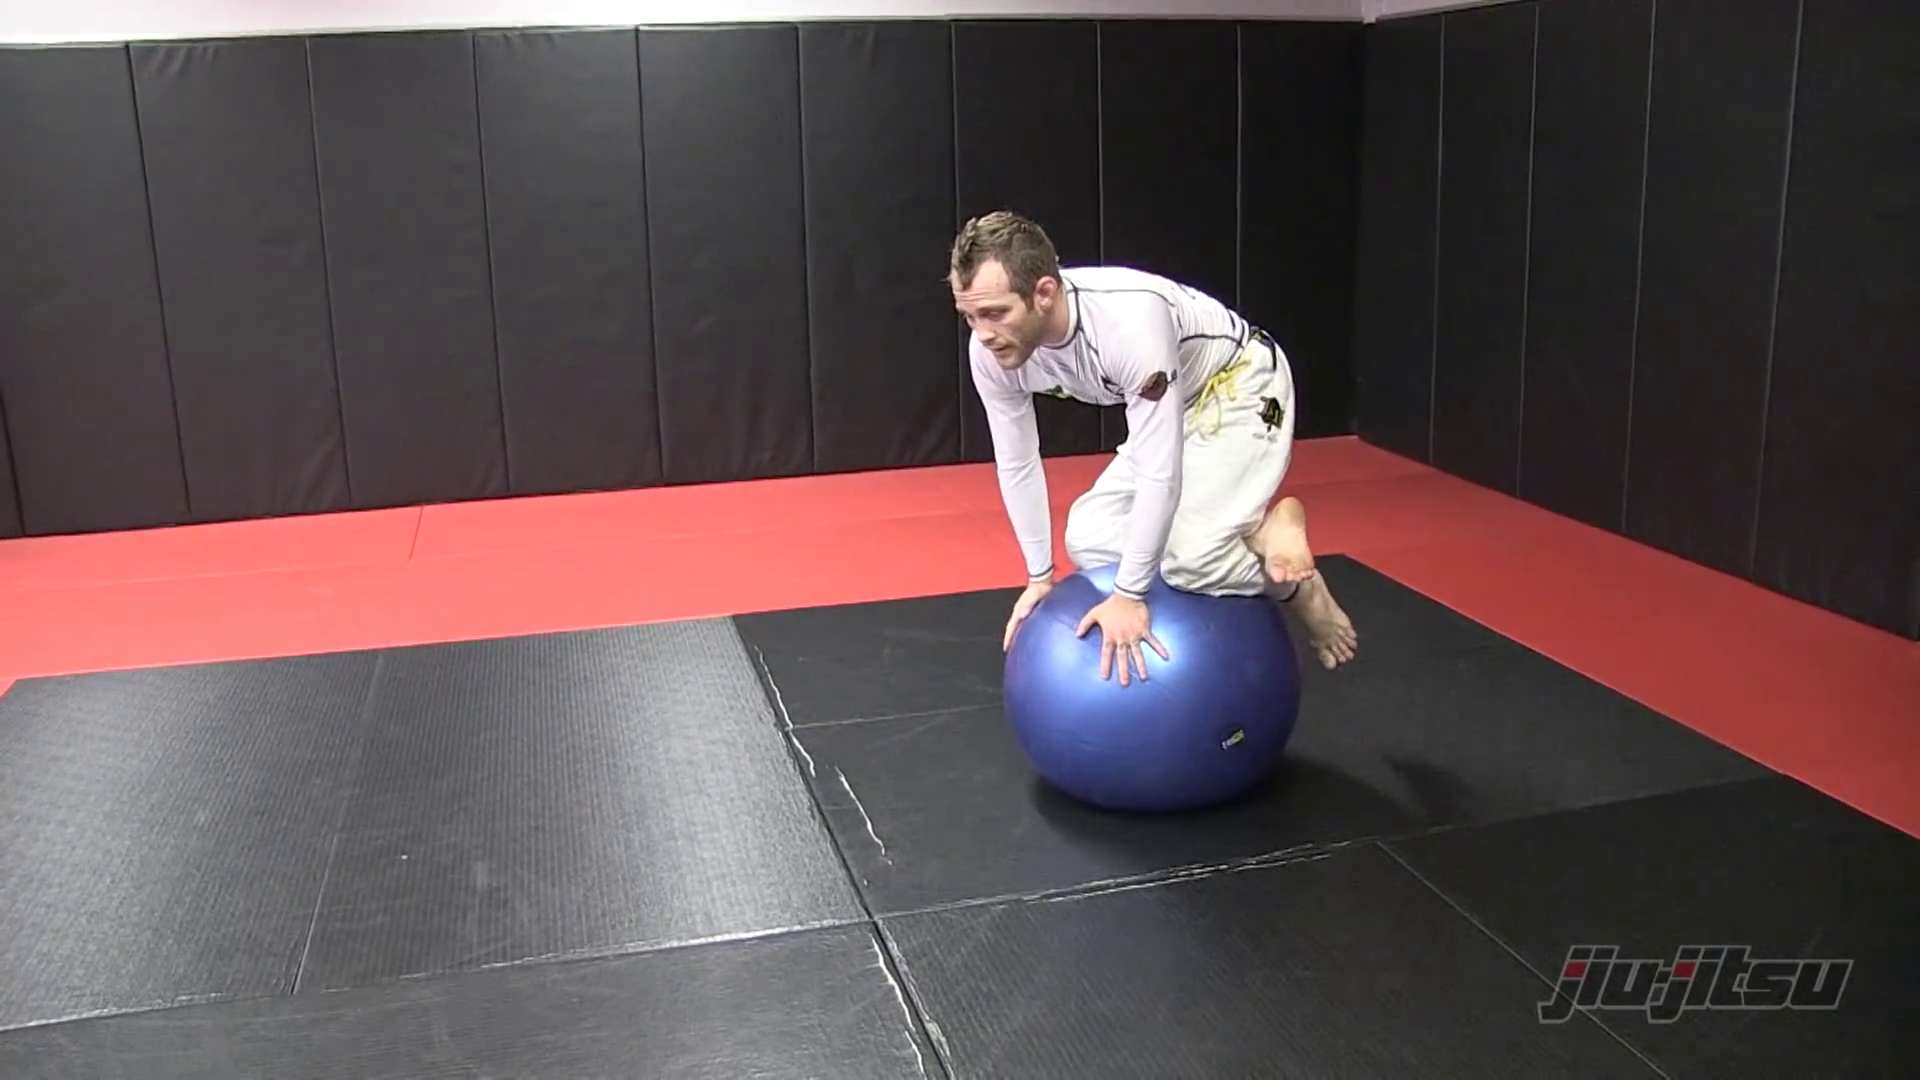yogaball: (996, 568, 1324, 832)
